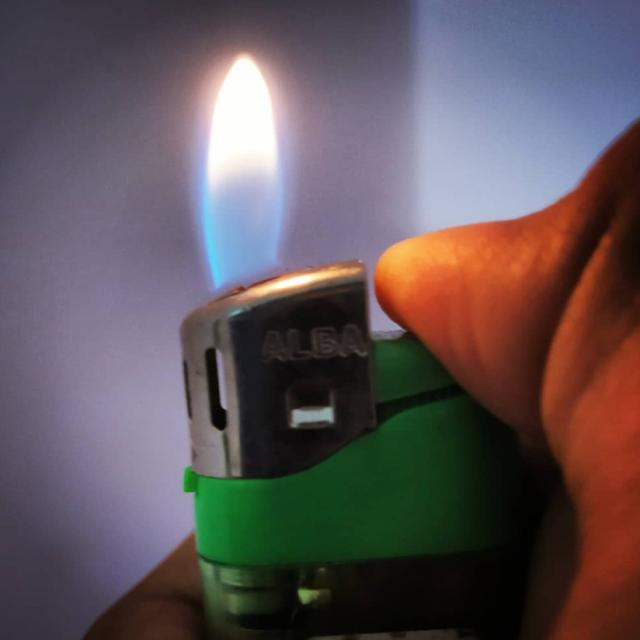fire: (204, 51, 289, 293)
